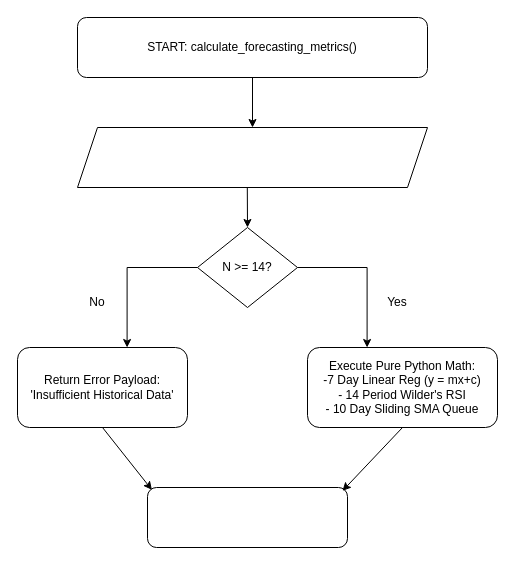
Image size: 515x565. Some labels were removed from this diagram. Each missing label, with the centre of its shape:
End: Return Formatted JSON Payload: (x=247, y=517)
Input: prices_array (Close Prices), period = 14 Extract N = LENGTH(prices_array): (x=252, y=157)
